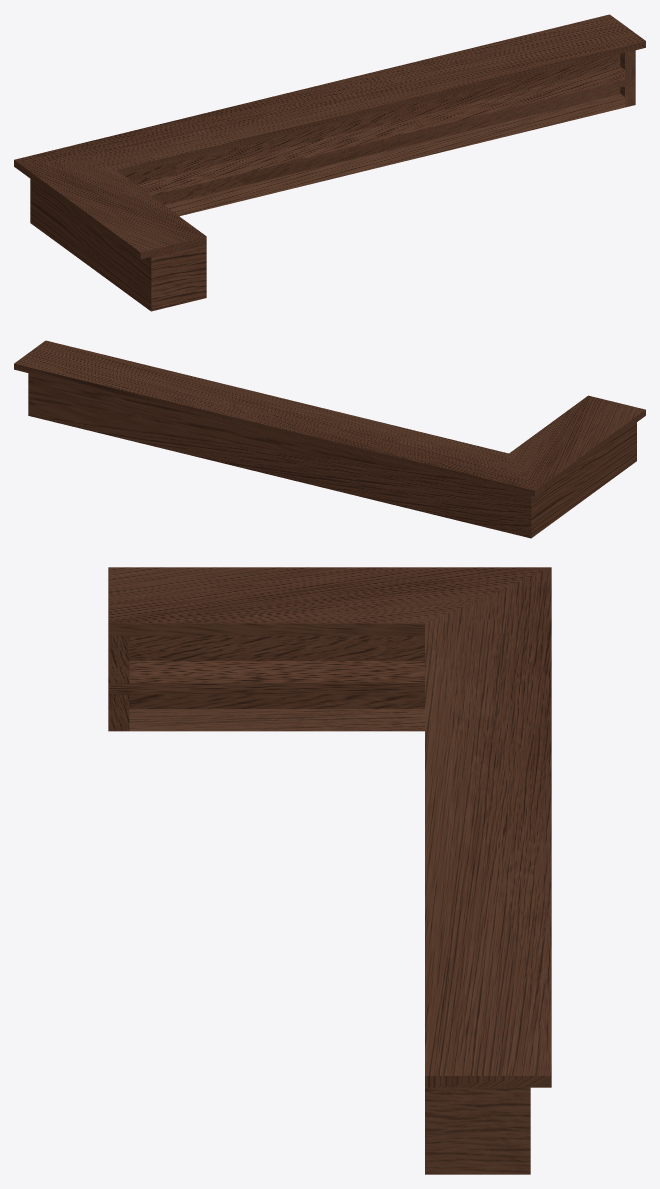
Rendered from barbuitobonito.glb.
3 renders of one model, top to bottom at view 1: azimuth 30°, elevation 25°; view 2: azimuth 150°, elevation 25°; view 3: azimuth 270°, elevation 25°, orthographic. The views are drawn at different scales.
Parts seen in each view (by area): view 1: Cube; view 2: Cube; view 3: Cube.
Part boxes in pixels (bbox=[...]): Cube: bbox=[14, 14, 645, 311]; Cube: bbox=[14, 340, 645, 538]; Cube: bbox=[108, 567, 551, 1174].
Bounding box in the file's own units: 11.4 × 1.13 × 4.2.
Materials: 1 (1 with a texture image).
